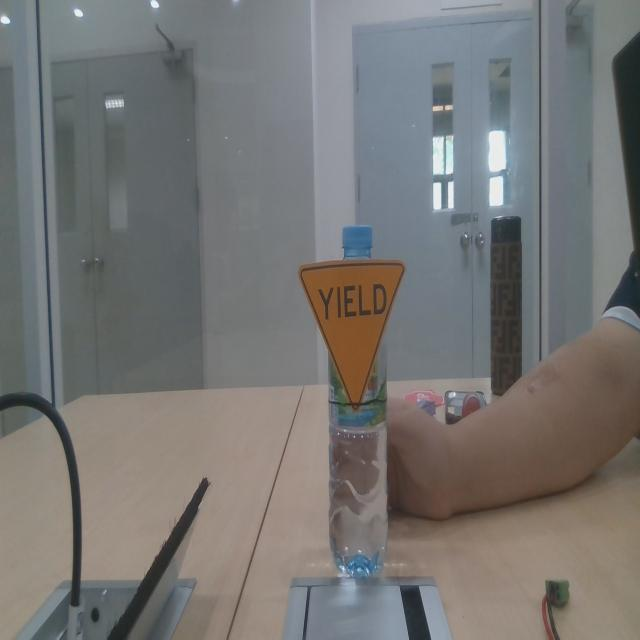Yield: (298, 261, 405, 413)
